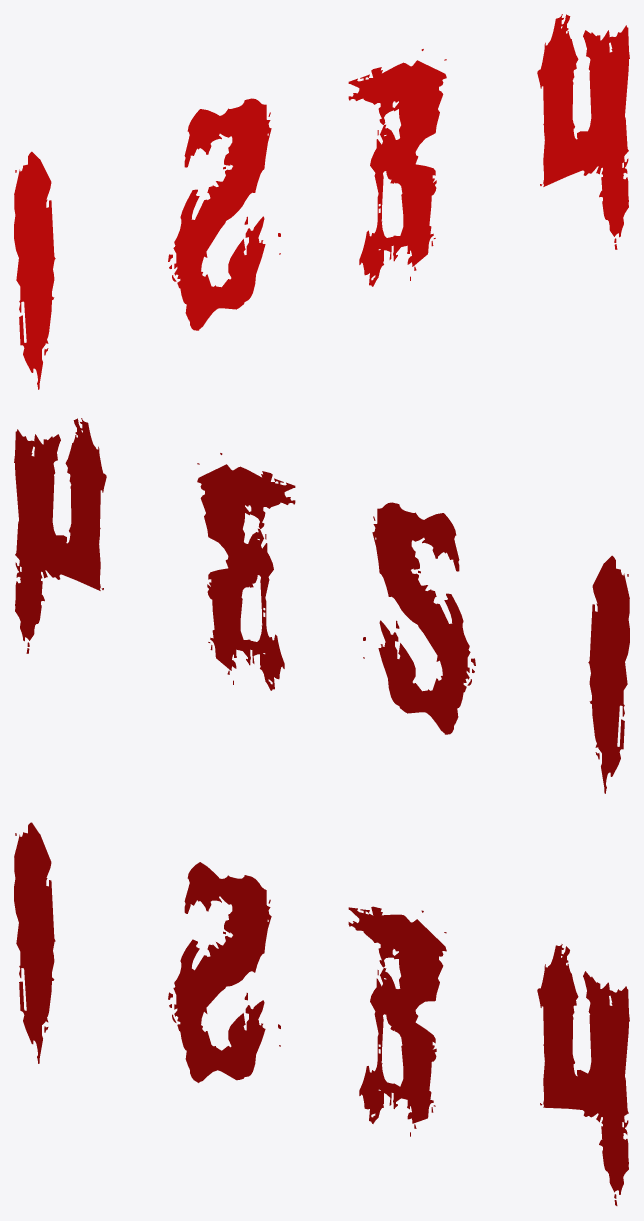
File: NumerosAlfa.fbx
The picture shows the model from 3 angles, top to bottom: view 1: azimuth 30°, elevation 25°; view 2: azimuth 150°, elevation 25°; view 3: azimuth 330°, elevation 25°; orthographic projection.
Visible parts, largest first — view 1: 2, 4, 3, 1; view 2: 2, 4, 3, 1; view 3: 2, 4, 3, 1.
Part boxes in pixels (x1,y1,x2,y2): 2: (168, 98, 280, 330); 4: (537, 14, 629, 249); 3: (348, 49, 446, 286); 1: (14, 151, 55, 389); 2: (363, 502, 475, 734); 4: (14, 418, 106, 653); 3: (197, 453, 295, 690); 1: (588, 555, 629, 793); 2: (168, 862, 280, 1082); 4: (537, 944, 629, 1205); 3: (348, 906, 446, 1136); 1: (14, 822, 55, 1063).
Bounding box in the file's own units: 186 × 71.92 × 3.14e-06.
